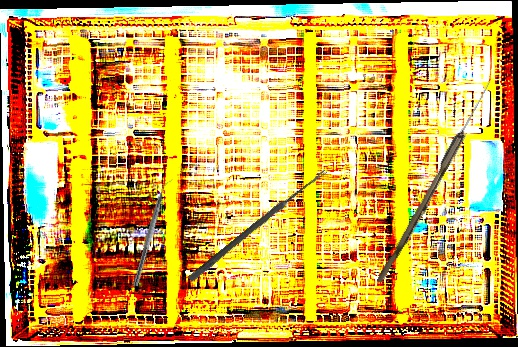Chopper: (132, 176, 175, 289)
Surgical Spoon: (376, 79, 494, 286), (187, 167, 329, 283)
